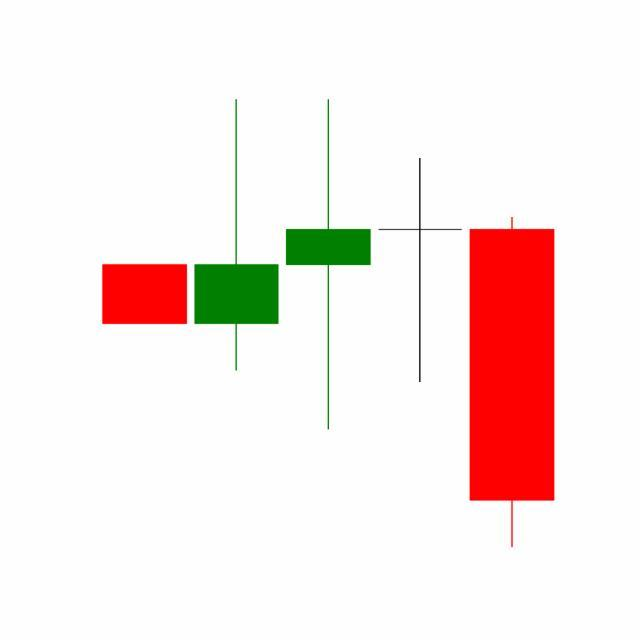Spinning Top: (374, 156, 468, 386)
